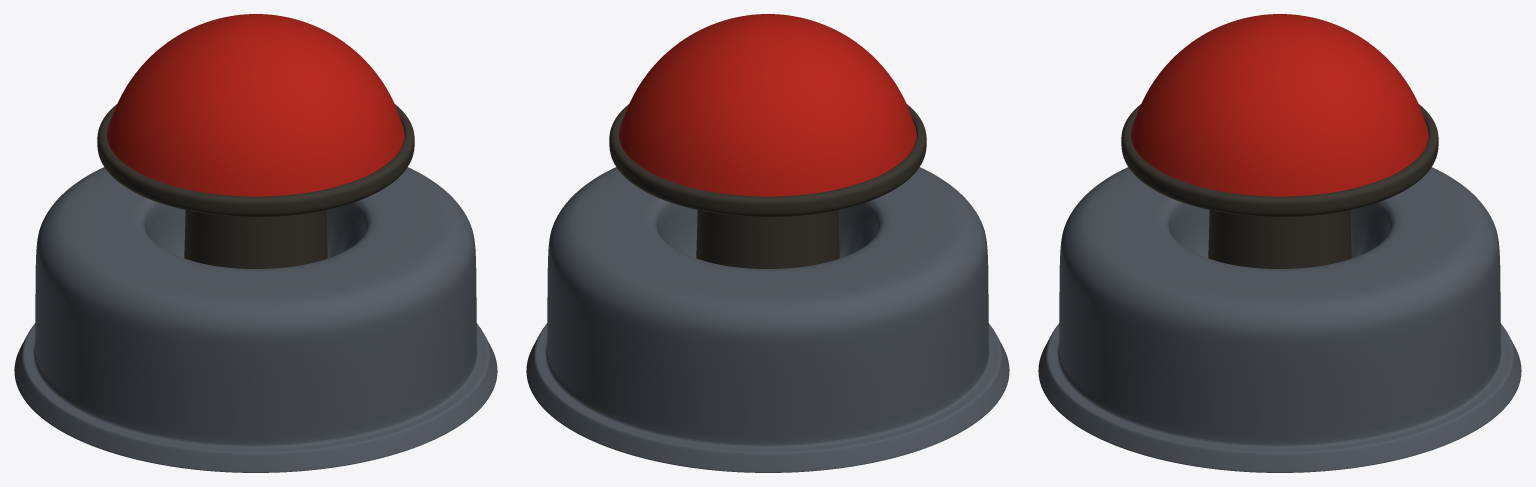
The model's file is BotonSalir_Ok.fbx.
3 renders of one model, left to right at view 1: azimuth 30°, elevation 25°; view 2: azimuth 150°, elevation 25°; view 3: azimuth 270°, elevation 25°, orthographic.
Parts seen in each view (by area): view 1: BaseBoton1, Boton1; view 2: BaseBoton1, Boton1; view 3: BaseBoton1, Boton1.
Part boxes in pixels (bbox=[...]): BaseBoton1: bbox=[14, 167, 497, 472]; Boton1: bbox=[97, 14, 414, 268]; BaseBoton1: bbox=[526, 167, 1009, 472]; Boton1: bbox=[609, 14, 926, 268]; BaseBoton1: bbox=[1038, 167, 1521, 472]; Boton1: bbox=[1121, 14, 1438, 268].
Bounding box in the file's own units: 3.23 × 2.53 × 3.23.
